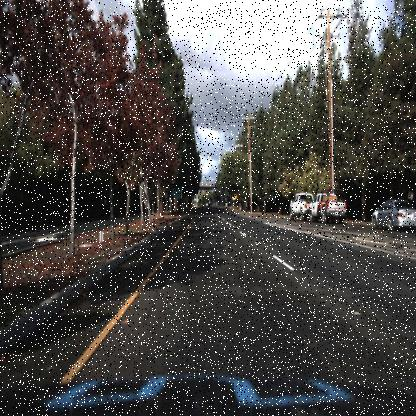car: (371, 198, 415, 234), (307, 191, 348, 221), (288, 187, 314, 220)
